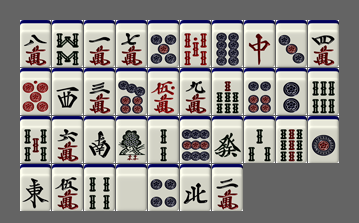0m: (148, 68, 179, 115)
0p: (20, 68, 51, 115)
0s: (180, 20, 211, 67)
1m: (84, 20, 115, 67)
1p: (308, 116, 339, 163)
1s: (116, 116, 147, 163)
1z: (20, 164, 51, 211)
2m: (212, 164, 243, 211)
2p: (276, 68, 307, 115)
2s: (148, 116, 179, 163)
2z: (84, 116, 115, 163)
3m: (84, 68, 115, 115)
3p: (276, 20, 307, 67)
3s: (244, 116, 275, 163)
3z: (52, 68, 83, 115)
4m: (308, 20, 339, 67)
4p: (148, 164, 179, 211)
4s: (84, 164, 115, 211)
4z: (180, 164, 211, 211)
5m: (52, 164, 83, 211)
5p: (148, 20, 179, 67)
5s: (20, 116, 51, 163)
5z: (116, 164, 147, 211)
6m: (52, 116, 83, 163)
6p: (244, 68, 275, 115)
6s: (308, 68, 339, 115)
6z: (212, 116, 243, 163)
7m: (116, 20, 147, 67)
7p: (116, 68, 147, 115)
7s: (212, 68, 243, 115)
7z: (244, 20, 275, 67)
8m: (20, 20, 51, 67)
8p: (212, 20, 243, 67)
8s: (52, 20, 83, 67)
9m: (180, 68, 211, 115)
9p: (180, 116, 211, 163)
9s: (276, 116, 307, 163)
